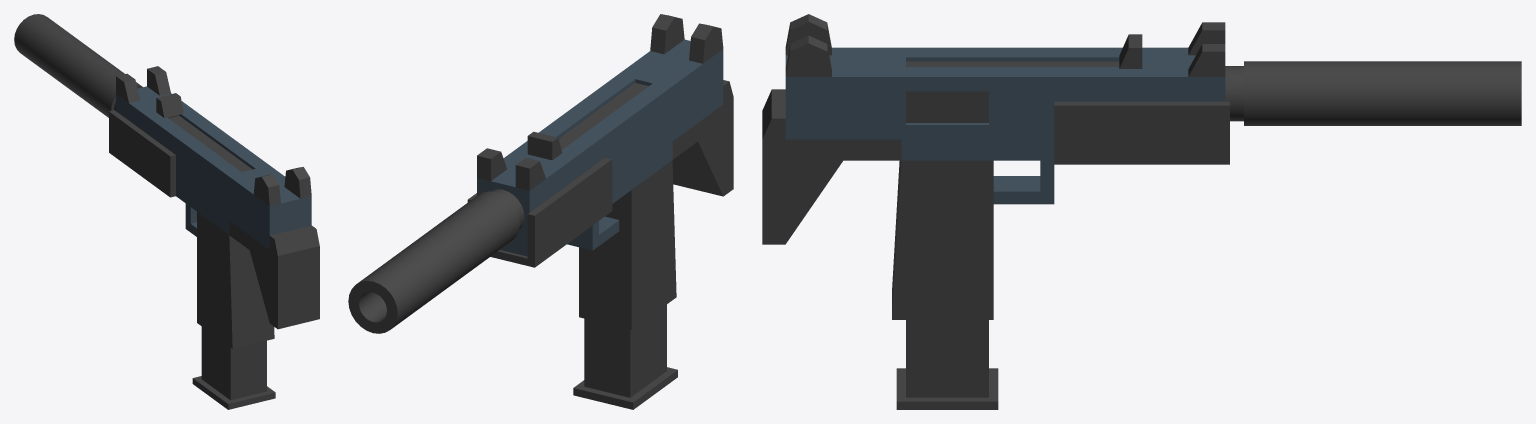
The model's file is uziLongSilencer.dae.
The picture shows the model from 3 angles, left to right: view 1: azimuth 30°, elevation 25°; view 2: azimuth 150°, elevation 25°; view 3: azimuth 270°, elevation 25°; orthographic projection. The views are drawn at different scales.
Parts seen in each view (by area): view 1: Group (×5); view 2: Group (×5); view 3: Group (×5).
Part boxes in pixels (x1,y1,x2,y2): Group (×5): (14, 14, 319, 409); Group (×5): (348, 14, 733, 409); Group (×5): (762, 14, 1521, 409).
Bounding box in the file's own units: 0.0727 × 0.333 × 0.6282.
